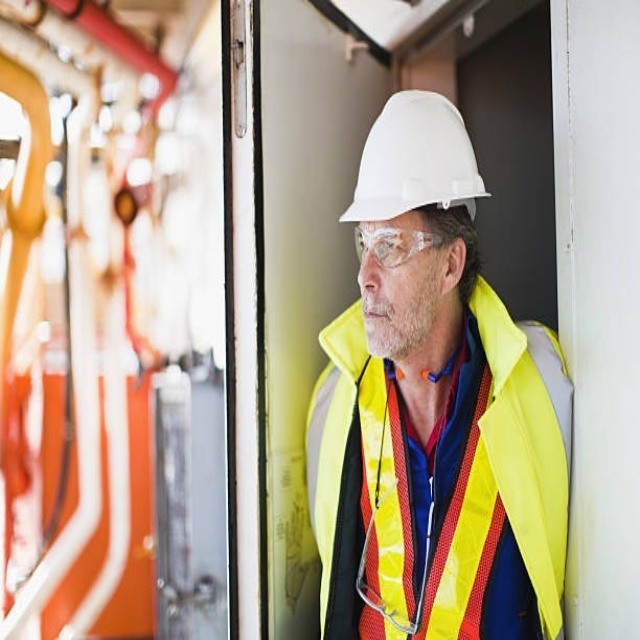Gafas: (353, 220, 444, 267)
Sin_mascara: (361, 293, 403, 351)
